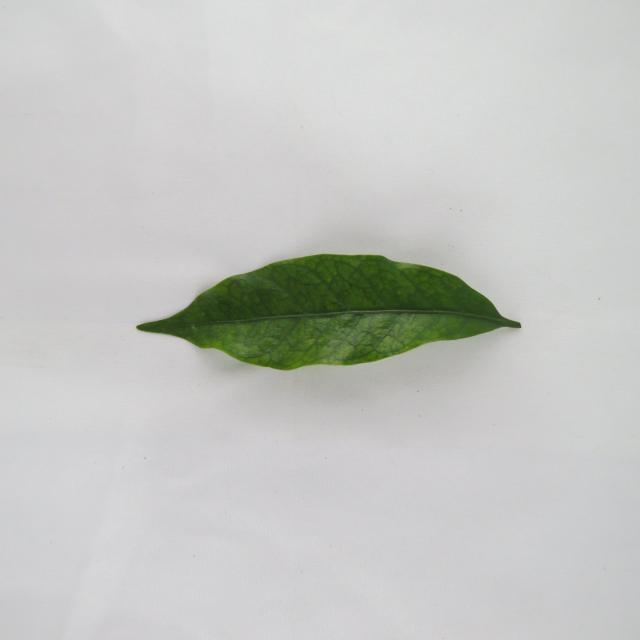DeficienciaNutricional-Manganeso: (138, 254, 520, 370)
